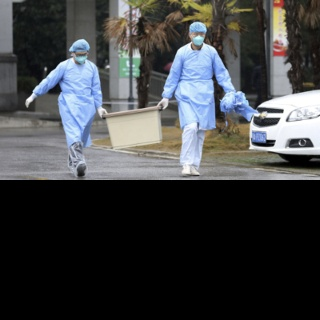with_mask: (191, 32, 204, 46), (73, 52, 88, 64)
